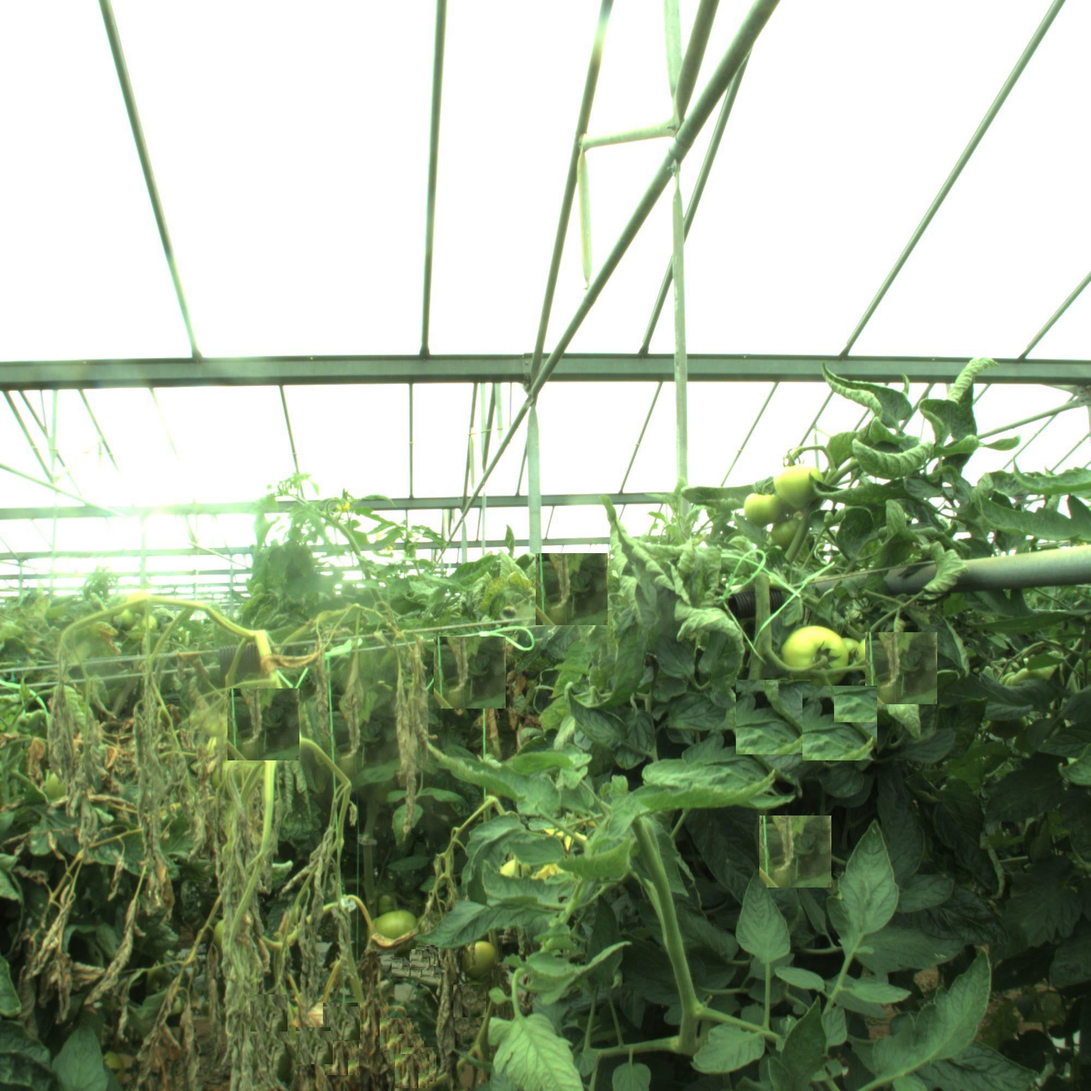['unripe', 'semi-ripe', 'fully-ripe']: (783, 630, 847, 694), (376, 912, 421, 957), (775, 460, 819, 505), (744, 489, 783, 529), (463, 941, 498, 976)
